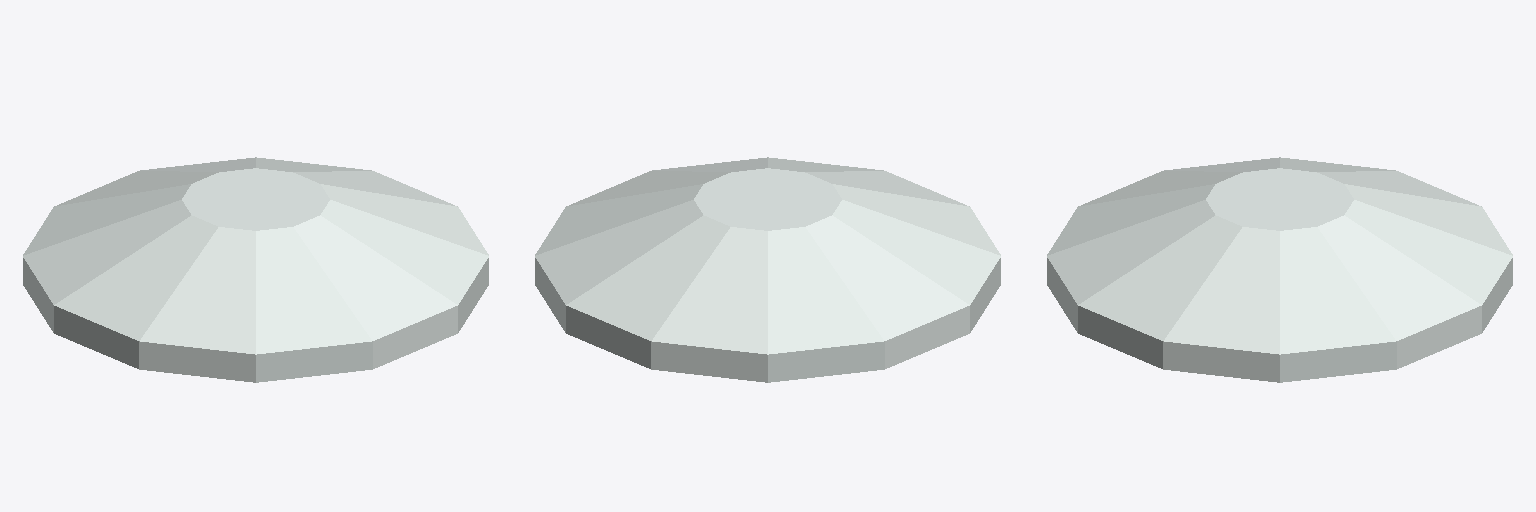
File: Gemstone of Power.obj
3 renders of one model, left to right at view 1: azimuth 30°, elevation 25°; view 2: azimuth 150°, elevation 25°; view 3: azimuth 270°, elevation 25°, orthographic.
Visible parts, largest first — view 1: group[number redacted]; view 2: group[number redacted]; view 3: group[number redacted].
Boxes of the visible parts, x1=… form: group[number redacted]: x1=23, y1=157, x2=488, y2=382; group[number redacted]: x1=535, y1=157, x2=1000, y2=382; group[number redacted]: x1=1047, y1=157, x2=1512, y2=382.
Bounding box in the file's own units: 0.17 × 0.0453 × 0.17.